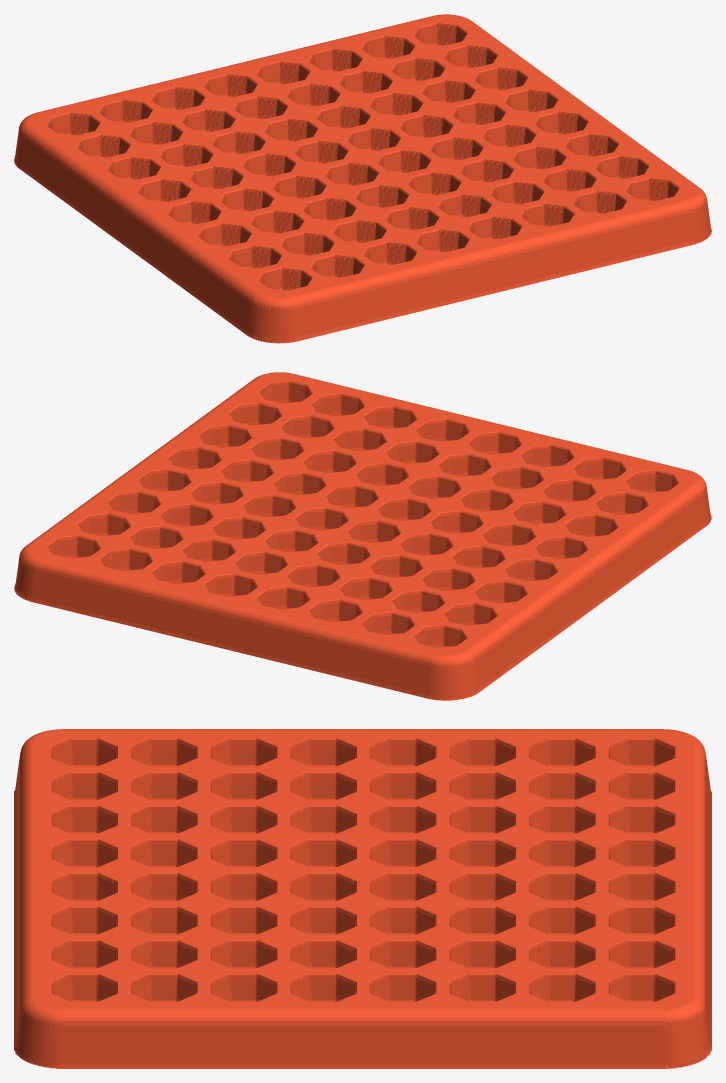
Rendered from mold.glb.
3 views of the same model, one above another, from view 1: azimuth 30°, elevation 25°; view 2: azimuth 150°, elevation 25°; view 3: azimuth 270°, elevation 25° (orthographic). The views are drawn at different scales.
Parts seen in each view (by area): view 1: geometry_0; view 2: geometry_0; view 3: geometry_0.
Boxes of the visible parts, <box> form: geometry_0: <box>14,14,711,343</box>; geometry_0: <box>14,372,711,700</box>; geometry_0: <box>14,729,711,1068</box>.
Size of the model in its own units: 0.1283 by 0.0105 by 0.1283.
